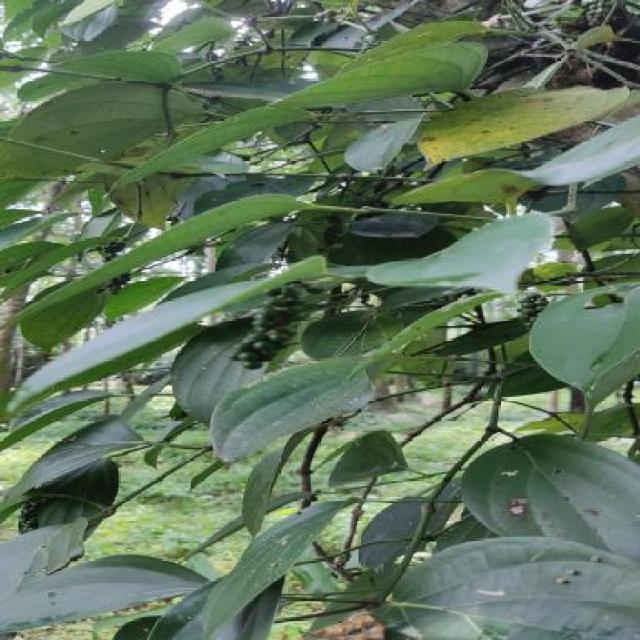UNRIPE: (229, 286, 305, 368), (99, 243, 130, 295), (15, 497, 51, 528), (320, 215, 343, 252), (518, 292, 545, 323)
